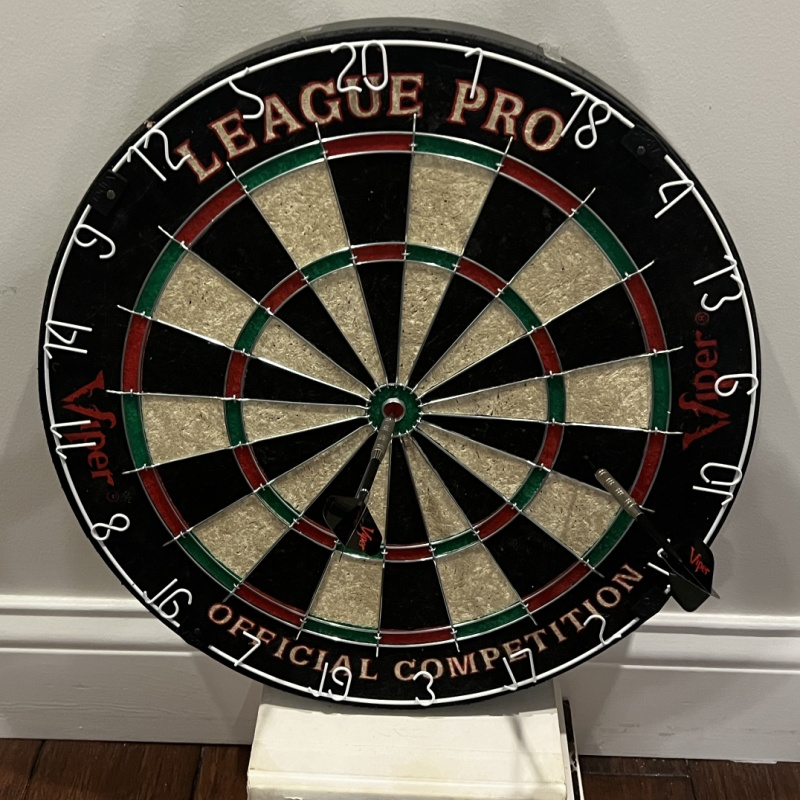dart: (379, 404, 400, 427), (587, 460, 609, 480)
eleven: (48, 420, 98, 458)
six: (714, 372, 759, 397)
three: (410, 672, 437, 708)
twenty: (328, 38, 389, 92)
